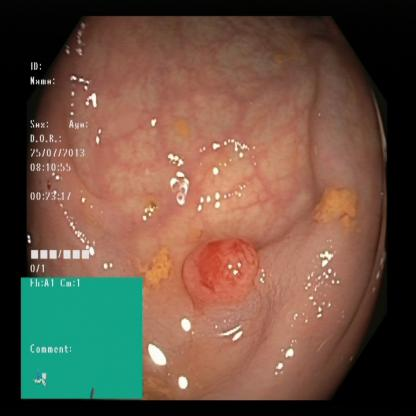Labels: (27, 60, 123, 276), (22, 277, 144, 401)
Polyps: (172, 231, 270, 308)
